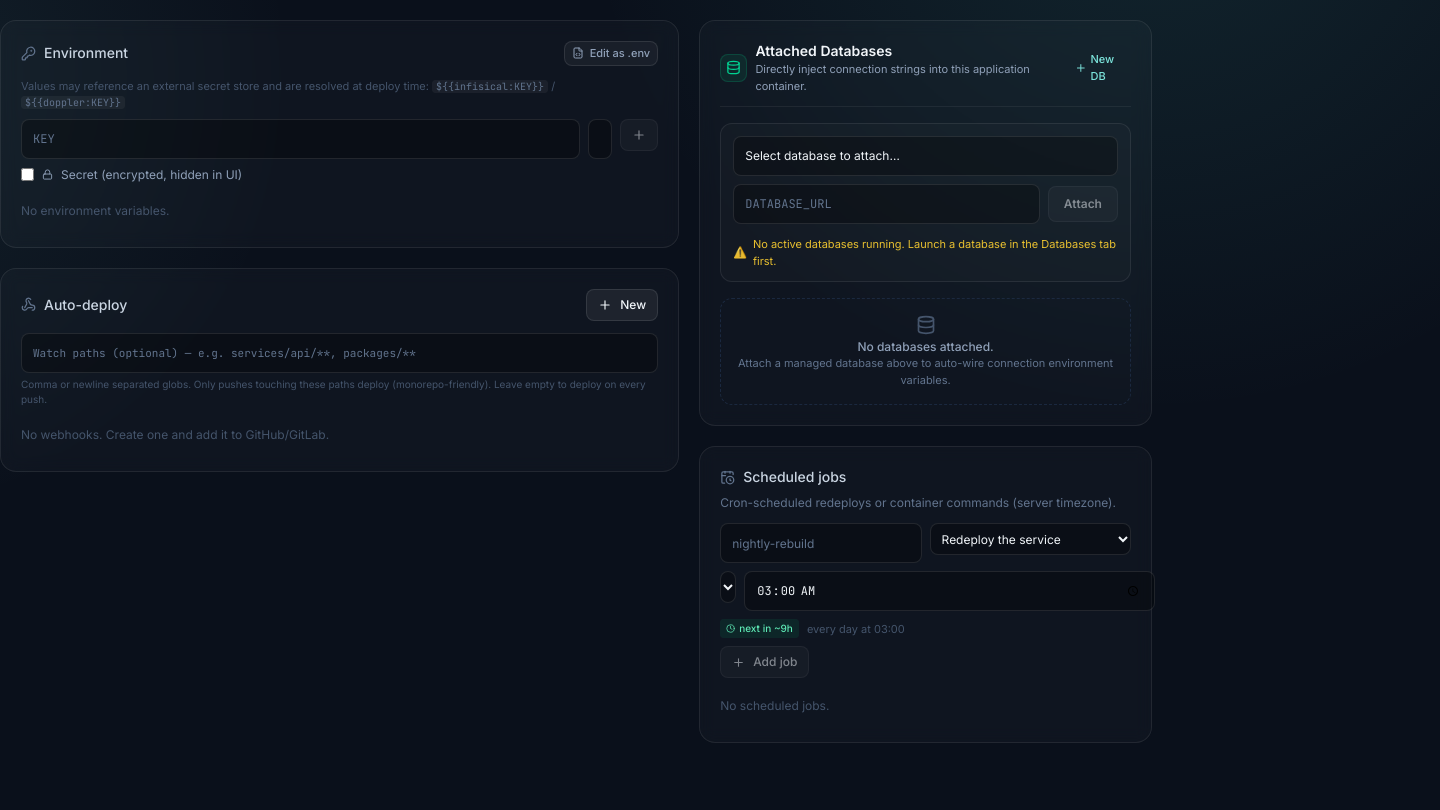
EnvironmentTab — scheduled jobs card › reveals the weekday picker for weekly presets and the cron field for custom
Expected: the field with placeholder "nightly-rebuild" is shown, top-left (720, 523), bottom-right (922, 563)
Select "Weekly…" in the dropdown named "Schedule preset" at (728, 587), box top-left (720, 571), bottom-right (736, 603)
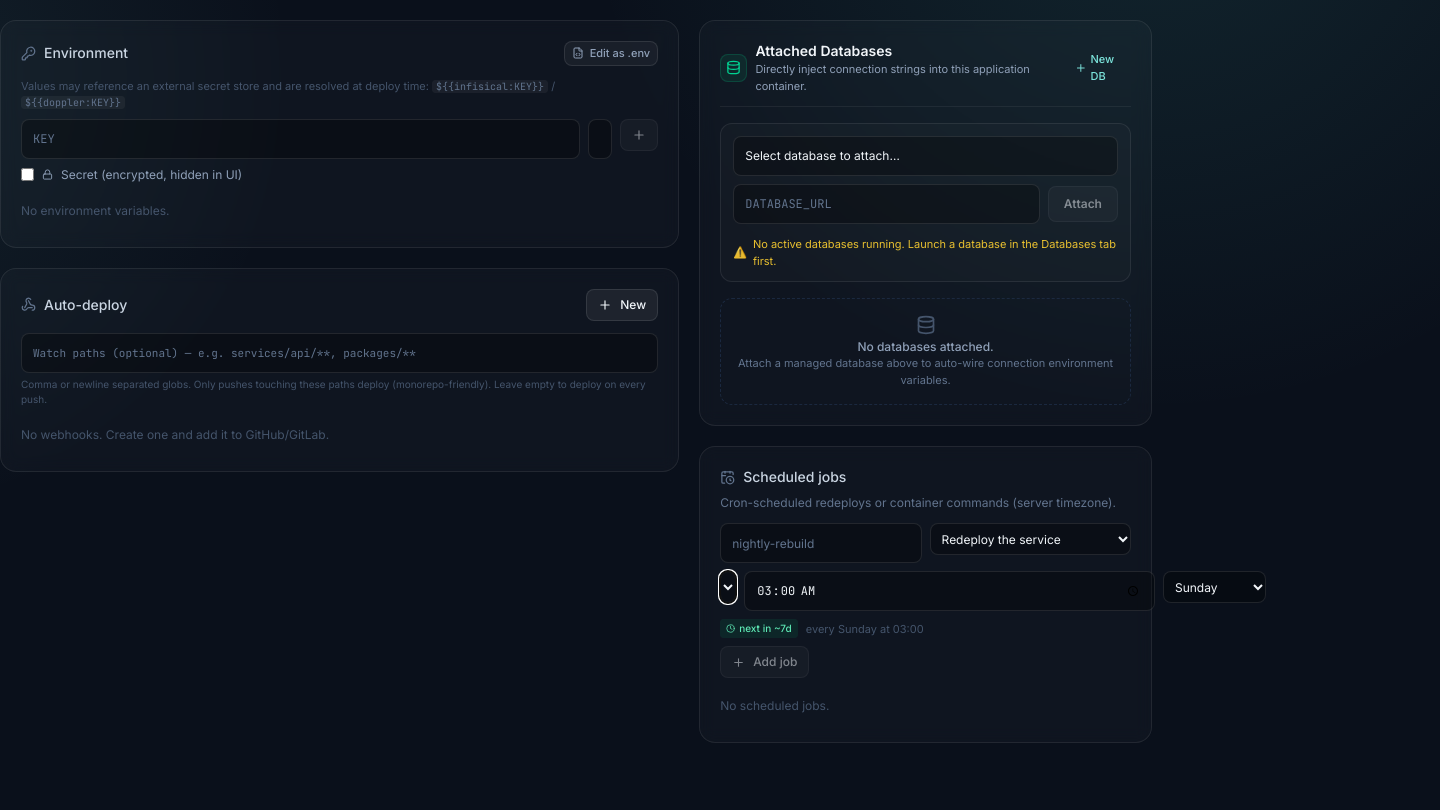
Now the dropdown named "Day of week" is shown, box top-left (1163, 571), bottom-right (1266, 603)
Now the text "every Sunday at 03:00" is shown, box top-left (806, 622), bottom-right (924, 636)
Select "Monthly…" in the dropdown named "Schedule preset" at (728, 587), box top-left (720, 571), bottom-right (736, 603)
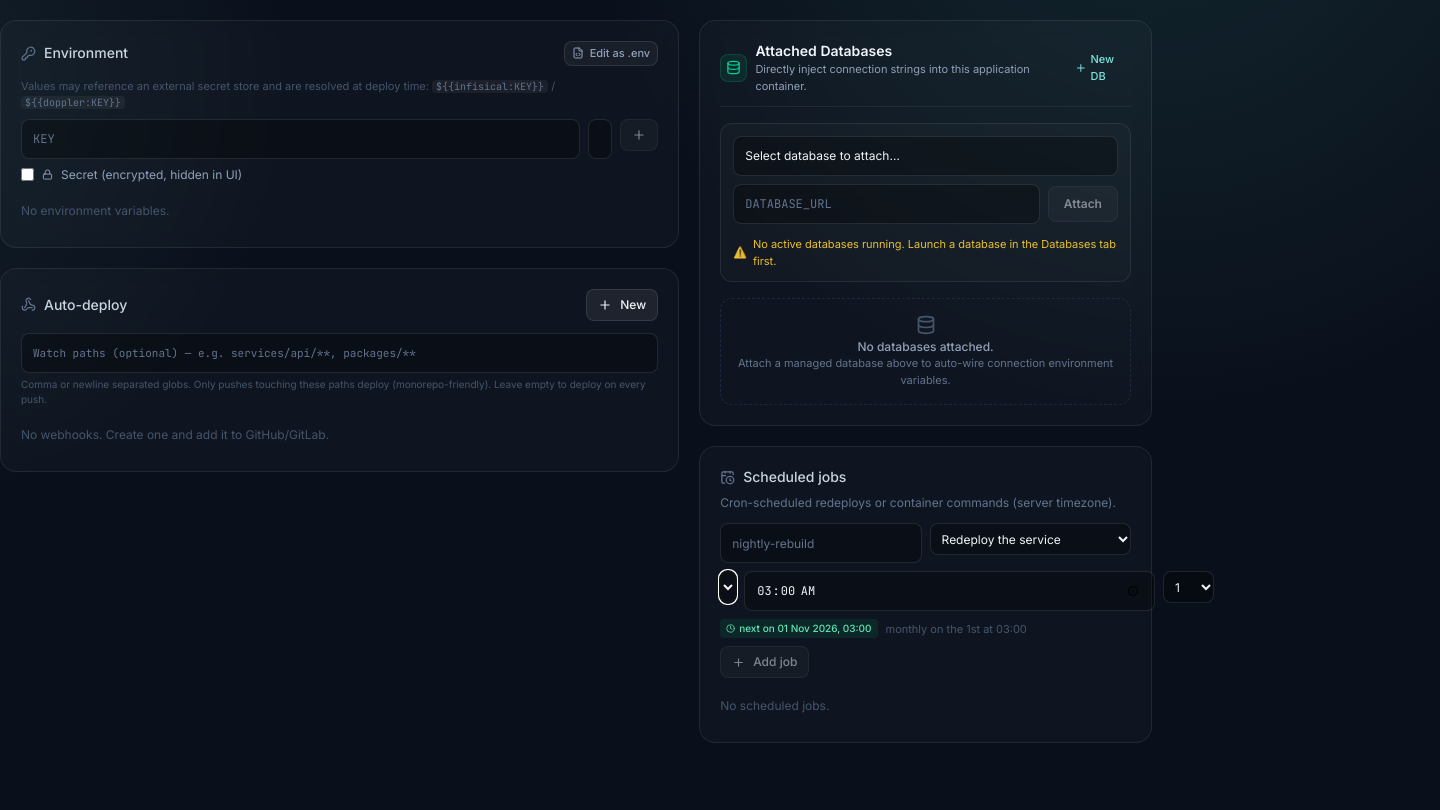
Now the dropdown named "Day of month" is shown, box top-left (1163, 571), bottom-right (1214, 603)
Select "Custom cron…" in the dropdown named "Schedule preset" at (728, 587), box top-left (720, 571), bottom-right (736, 603)
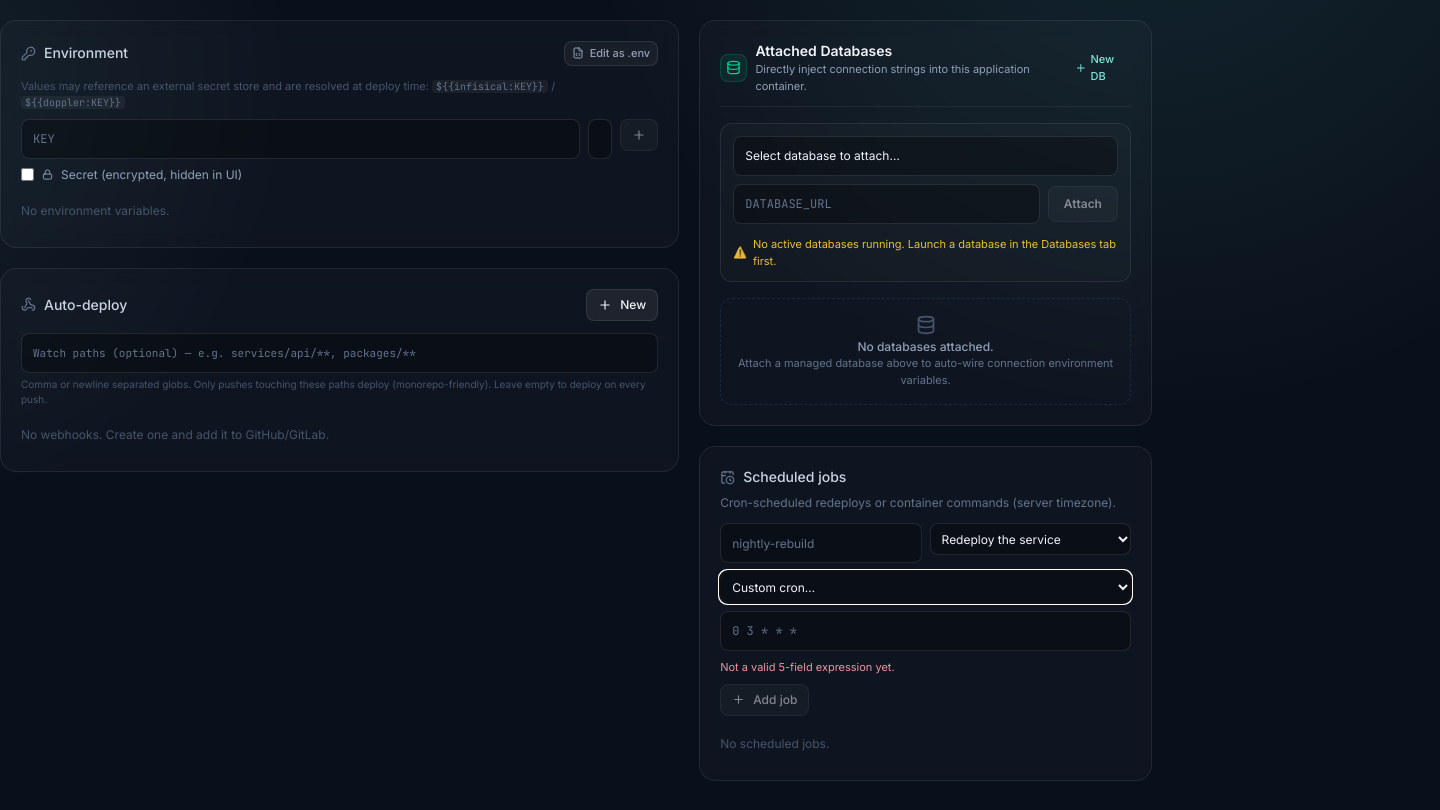
Now the field named "Cron expression" is shown
Type "0" into the field named "Cron expression".
click(926, 631); type("0")  # box top-left (720, 611), bottom-right (1131, 651)
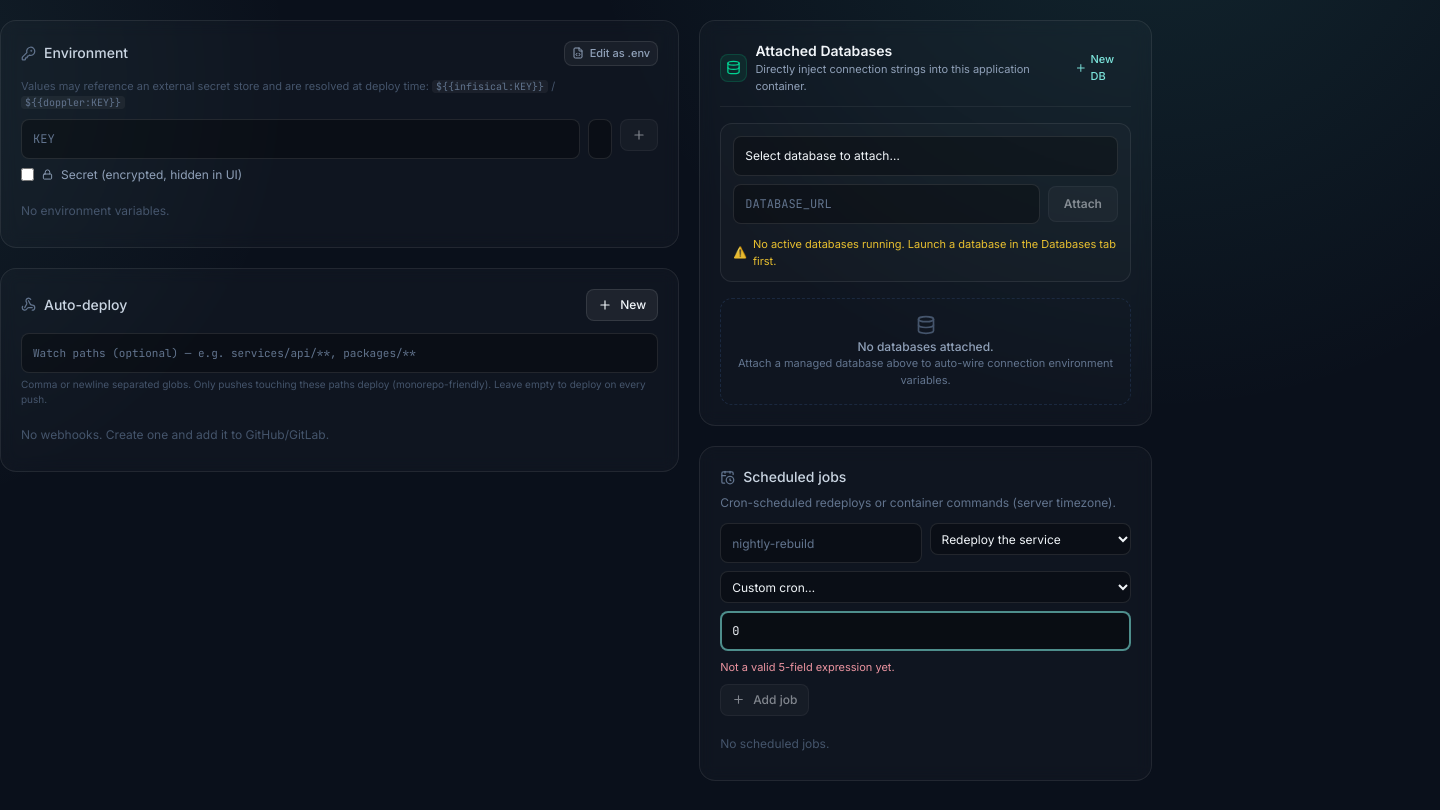
Now the text "Not a valid 5-field expression yet." is shown, box top-left (720, 660), bottom-right (895, 674)
# A valid custom cron is still summarized like any other expression.
Type " 5 * * *" into the field named "Cron expression".
click(926, 631); type(" 5 * * *")  # box top-left (720, 611), bottom-right (1131, 651)
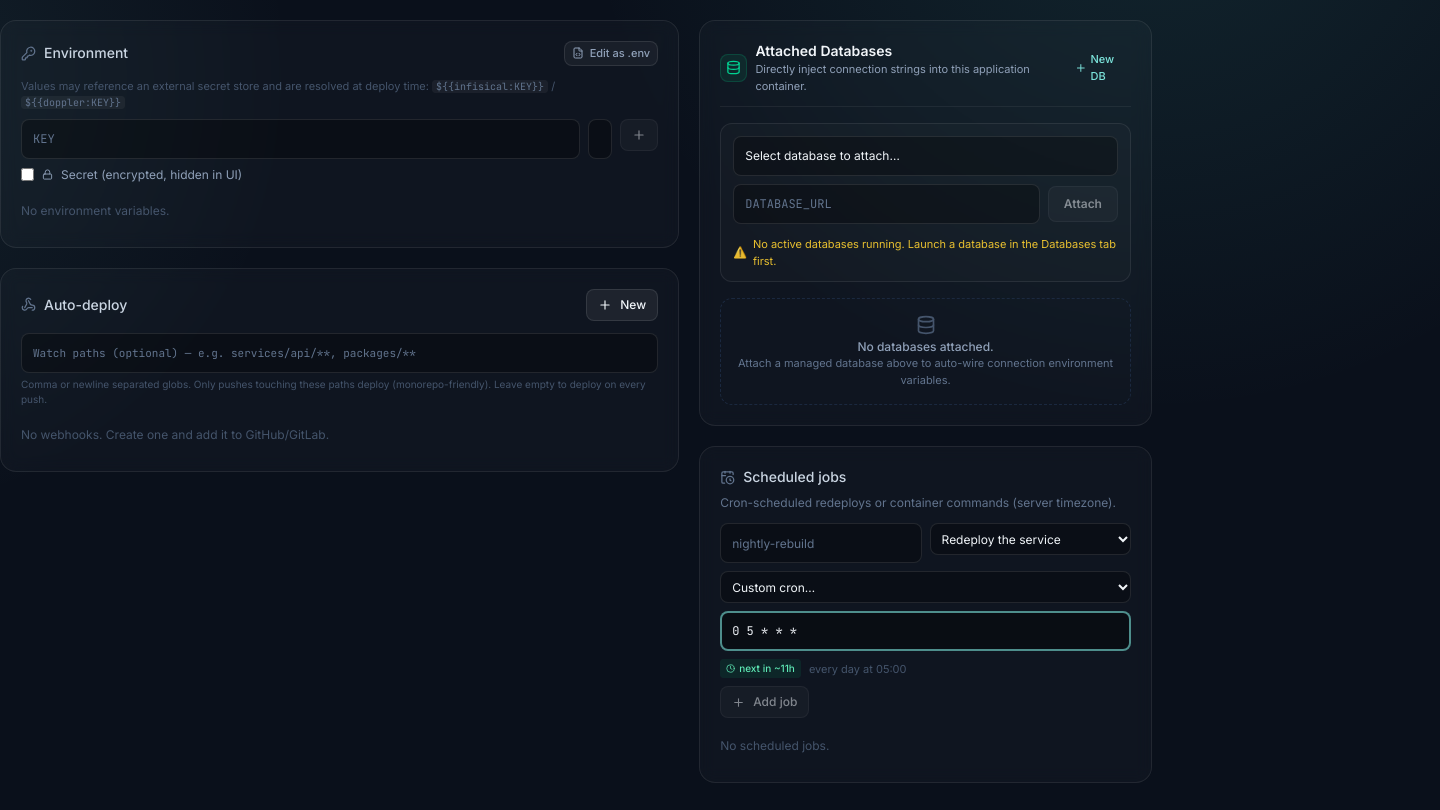
Expected: the button "Add job" is disabled, top-left (720, 686), bottom-right (809, 718)
Now the text "every day at 05:00" is shown, box top-left (809, 662), bottom-right (906, 676)
